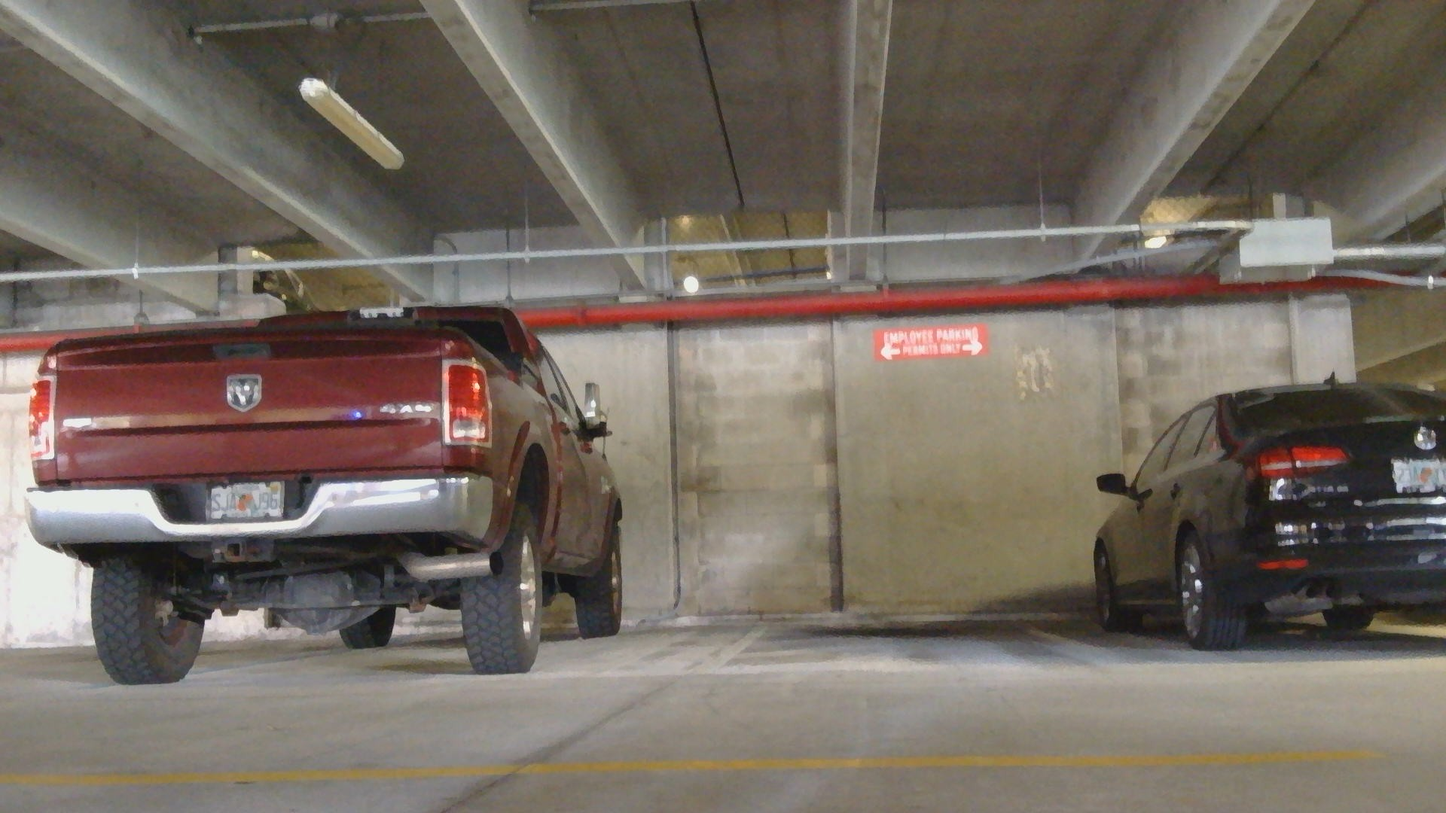empty_spot: (643, 538, 1125, 675)
occupied_spot: (15, 295, 636, 707), (1092, 376, 1445, 667)
